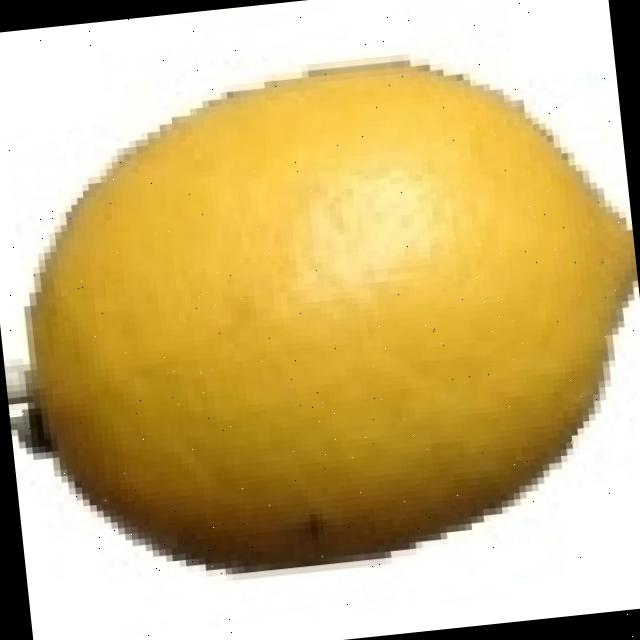lemon: (30, 63, 637, 568)
